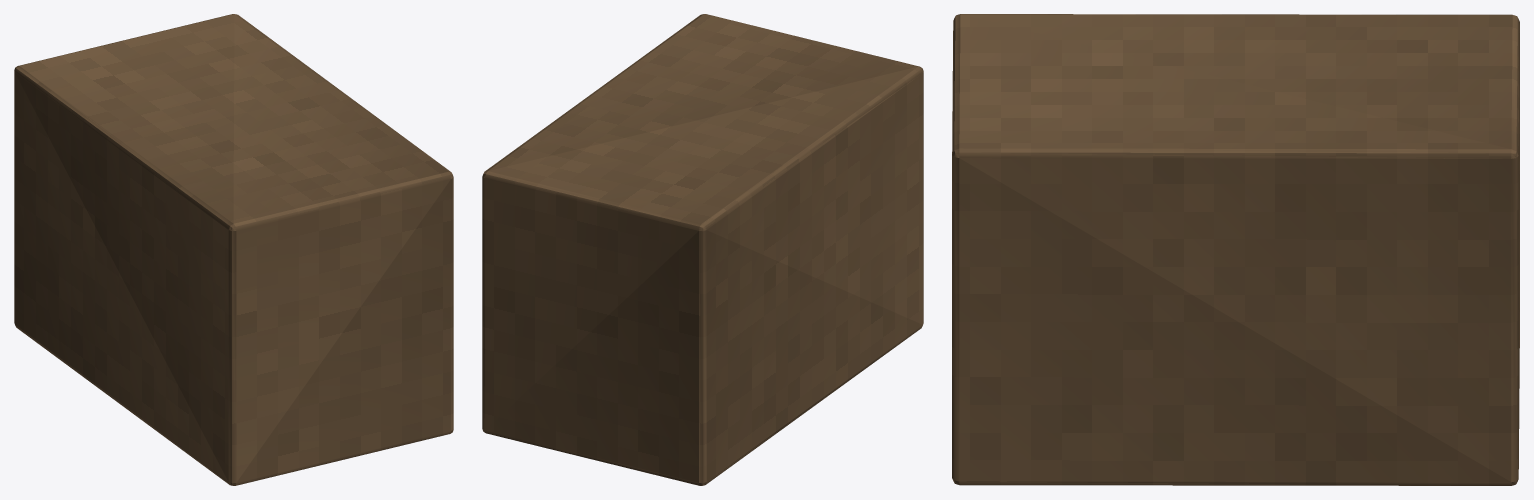
Rendered from box_small.glb.
3 views of the same model, side by side, from view 1: azimuth 30°, elevation 25°; view 2: azimuth 150°, elevation 25°; view 3: azimuth 270°, elevation 25° (orthographic). The views are drawn at different scales.
Parts seen in each view (by area): view 1: box_small; view 2: box_small; view 3: box_small.
Boxes of the visible parts, <box> form: box_small: <box>14,14,453,485</box>; box_small: <box>482,14,923,485</box>; box_small: <box>952,14,1519,485</box>.
Size of the model in its own units: 0.2394 by 0.266 by 0.4068.
1 material, 1 textured.
